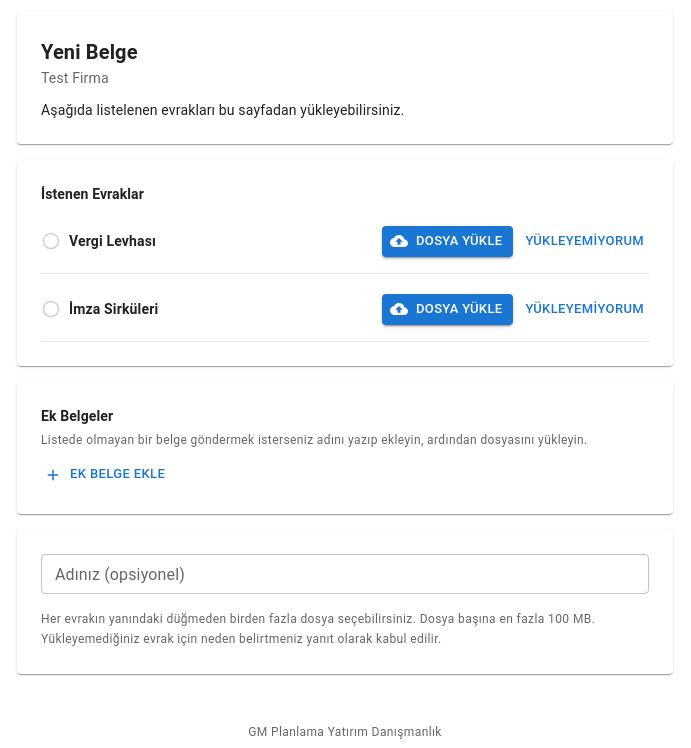
Scenario: neden girildiğinde sunucuya kaydedilir ve durum yenilenir
The image size is (691, 748).
Click the button "Yükleyemiyorum" in the row of "Vergi Levhası". click: click(585, 241)
box: x1=521 y1=226 x2=649 y2=257
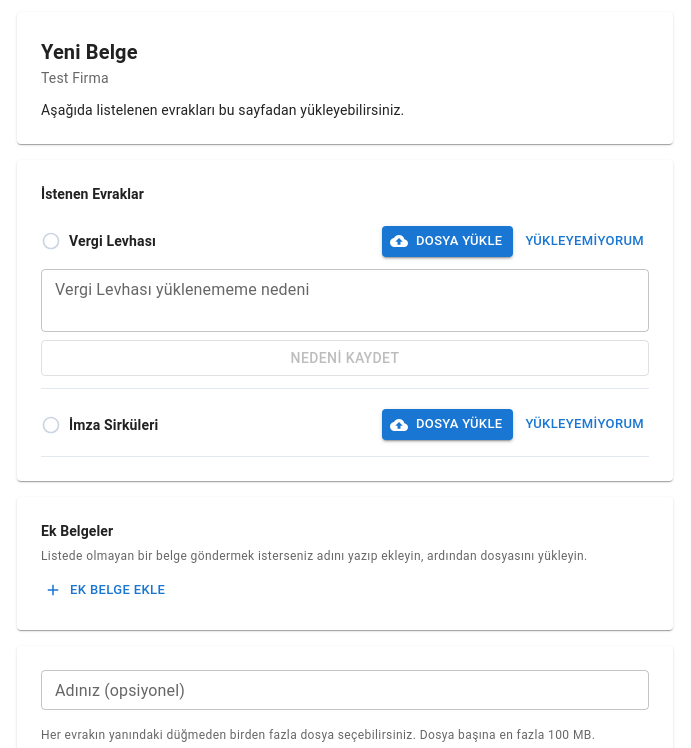
Type "Belge henüz düzenlenmedi" into the text box labelled "Vergi Levhası yüklenememe nedeni". click: (345, 300)
box: x1=55 y1=277 x2=635 y2=323
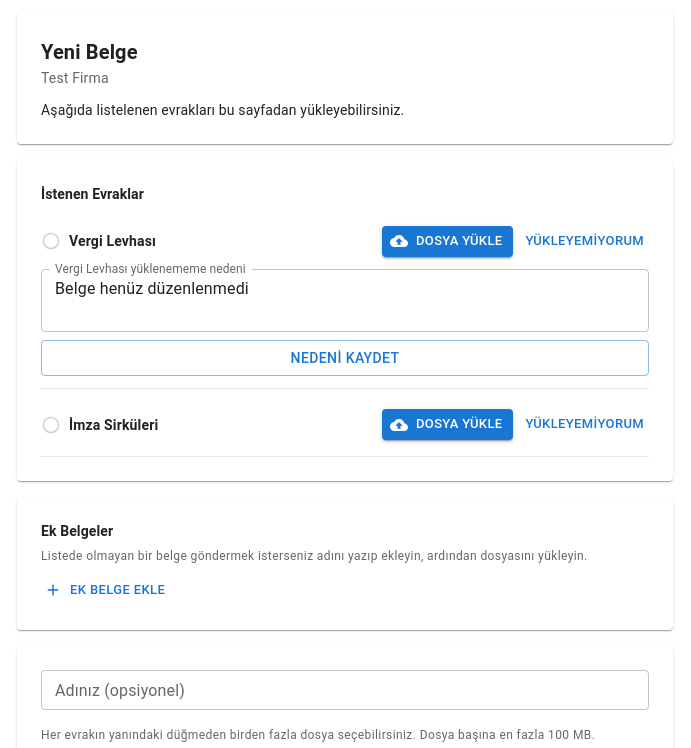
Click the button "Nedeni kaydet". click: click(345, 358)
box: x1=41 y1=340 x2=649 y2=376
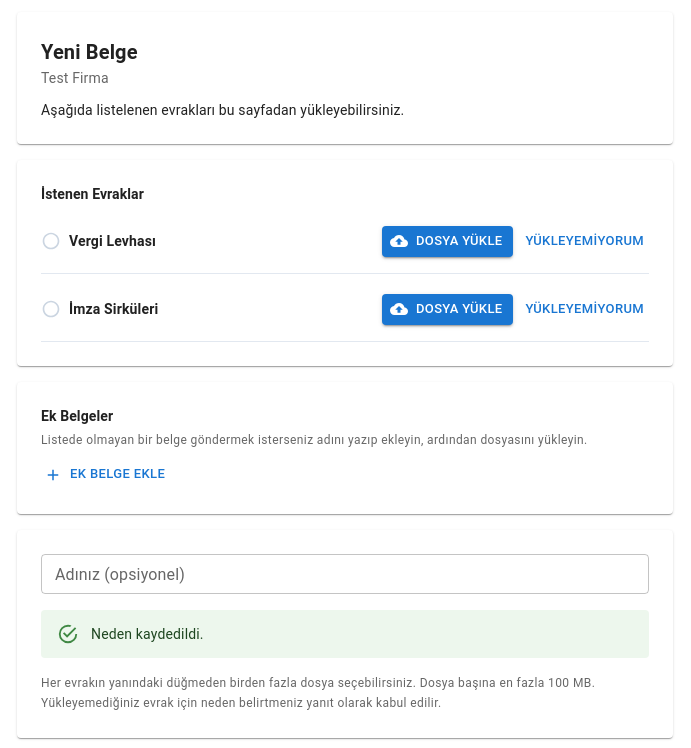
Now the text "Neden kaydedildi." is shown, box x1=91 y1=626 x2=204 y2=642
